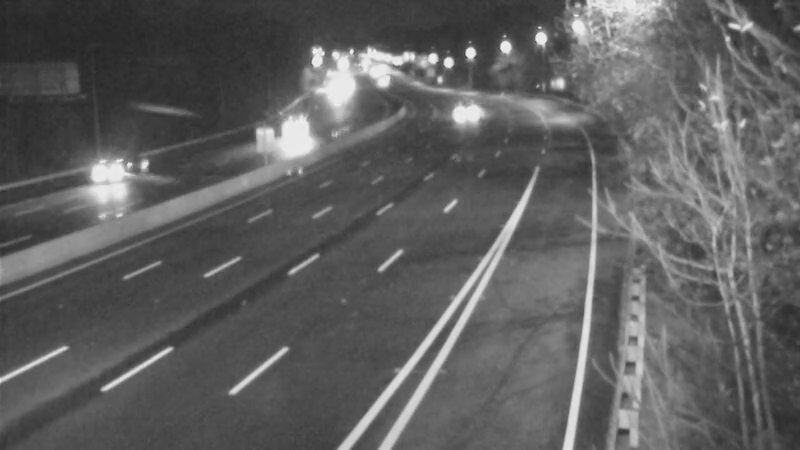vehicle: (62, 138, 142, 218), (431, 85, 481, 135), (271, 109, 321, 159)
